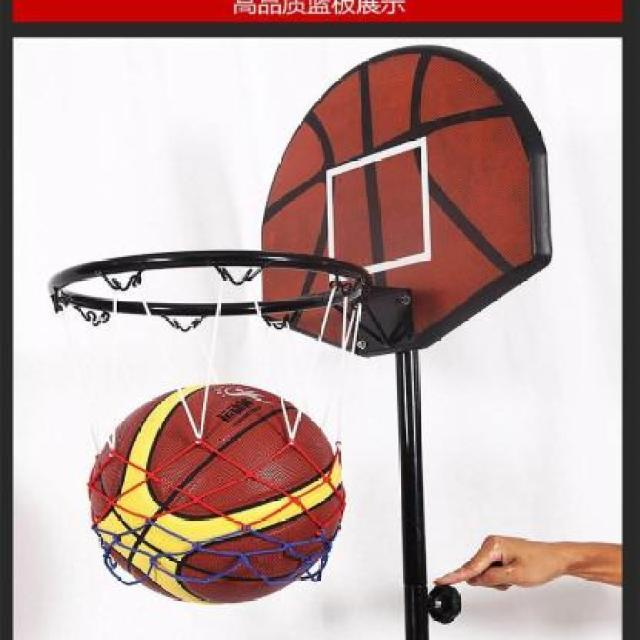basketball: (89, 382, 348, 606)
